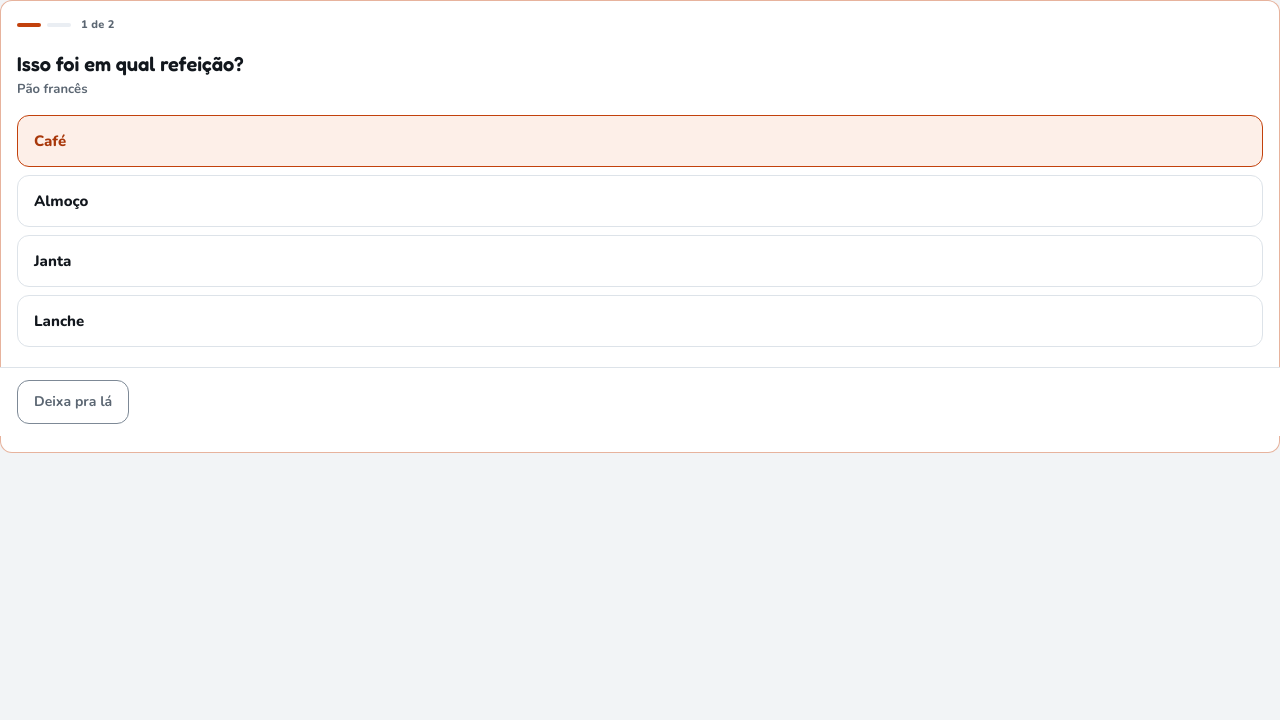
Scenario: MealEditor › não inventa caloria para o alimento que não tem informação nutricional
Click the button "Café": coordinates (50, 141) [17,115,1263,167]
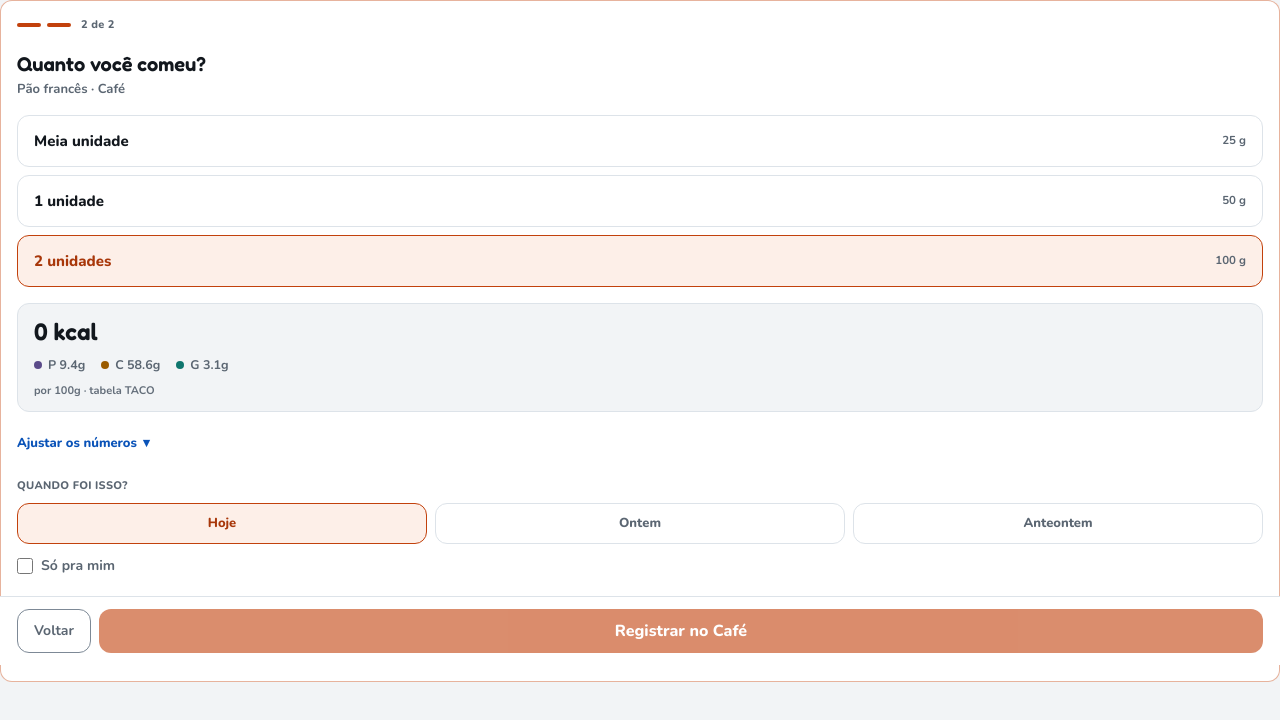
Expected: the button "1 unidade 50 g" does not show "kcal", [17,175,1263,227]
Result: the button "1 unidade 50 g" is shown at [17,175,1263,227]
